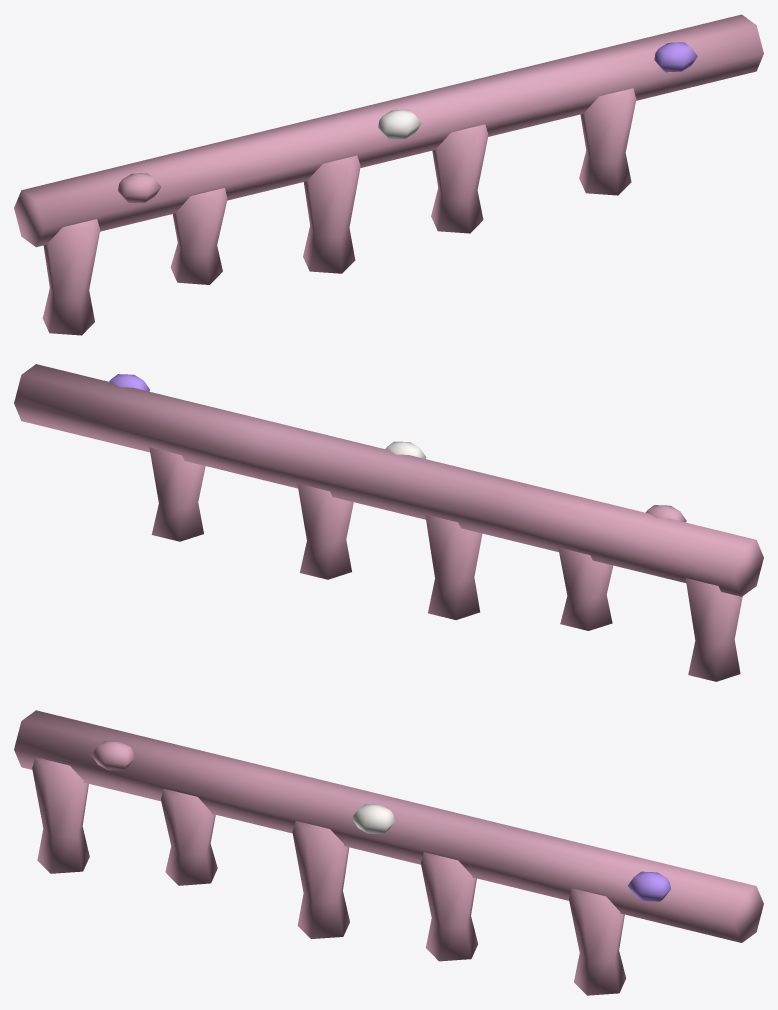
The model's file is candy_rim.glb.
3 views of the same model, one above another, from view 1: azimuth 30°, elevation 25°; view 2: azimuth 150°, elevation 25°; view 3: azimuth 330°, elevation 25° (orthographic).
Visible parts, largest first — view 1: C_Rim__C_pink_2, C_Rim__C_lilac_2, C_Rim__C_white_5; view 2: C_Rim__C_pink_2; view 3: C_Rim__C_pink_2, C_Rim__C_lilac_2, C_Rim__C_white_5.
Part boxes in pixels (box(x1,y1,x2,y2)): C_Rim__C_pink_2: box(14, 14, 763, 335); C_Rim__C_lilac_2: box(654, 42, 697, 72); C_Rim__C_white_5: box(378, 109, 421, 139); C_Rim__C_pink_2: box(14, 364, 763, 681); C_Rim__C_pink_2: box(14, 710, 763, 995); C_Rim__C_lilac_2: box(627, 871, 670, 901); C_Rim__C_white_5: box(351, 804, 394, 834).
Bounding box in the file's own units: 4.8 × 0.9241 × 0.422.
